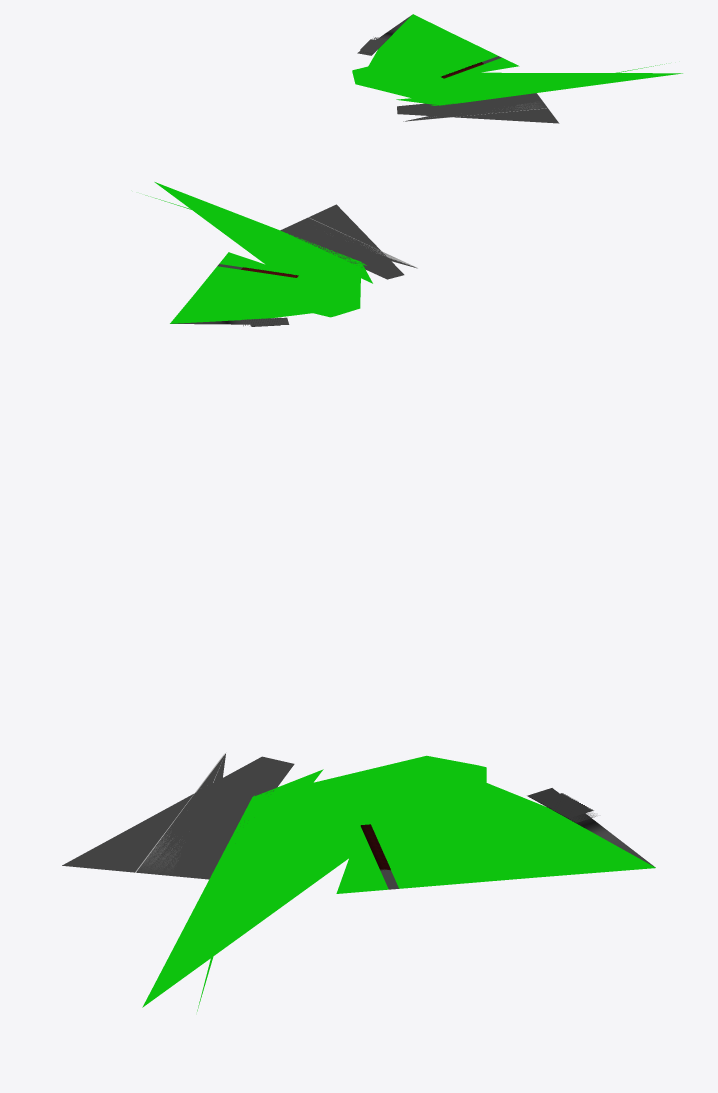
3 views of the same model, one above another, from view 1: azimuth 30°, elevation 25°; view 2: azimuth 150°, elevation 25°; view 3: azimuth 270°, elevation 25° (orthographic). The views are drawn at different scales.
Size of the model in its own units: 144 by 0.1 by 56.22.
